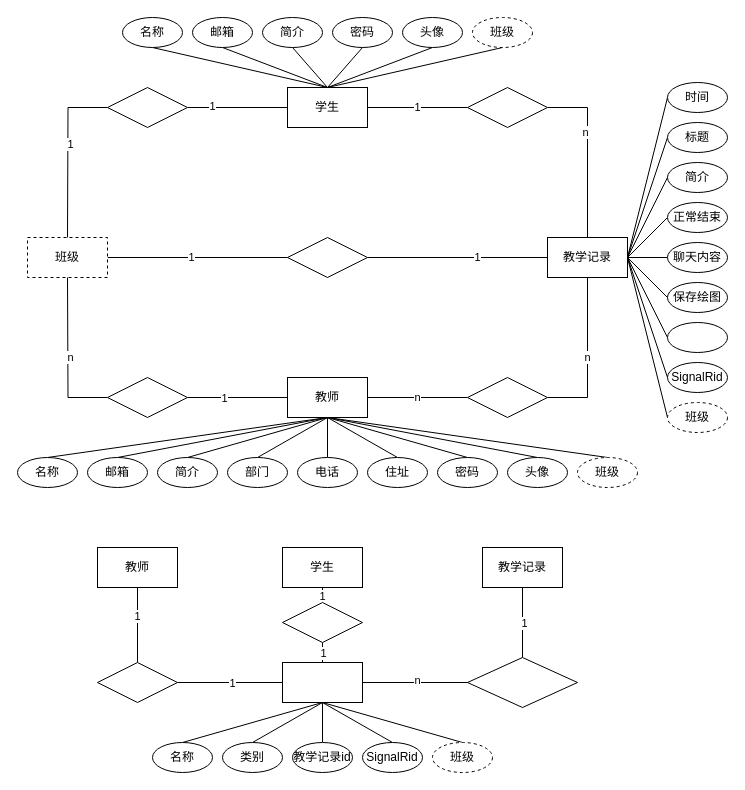
This 745x790 diagram has some shape labels left out. The box of each missing label's shape, as (x1, y1, x2, y2) in pixels:
一个教学多个在线: (466, 656, 578, 708)
在线表: (282, 662, 362, 702)
学生在线: (282, 602, 362, 642)
对应: (286, 236, 368, 278)
属于: (106, 86, 188, 128)
教师id: (666, 322, 728, 352)
教师在线: (96, 662, 178, 702)
查看: (466, 86, 548, 128)
管理: (466, 376, 548, 418)
负责: (106, 376, 188, 418)
